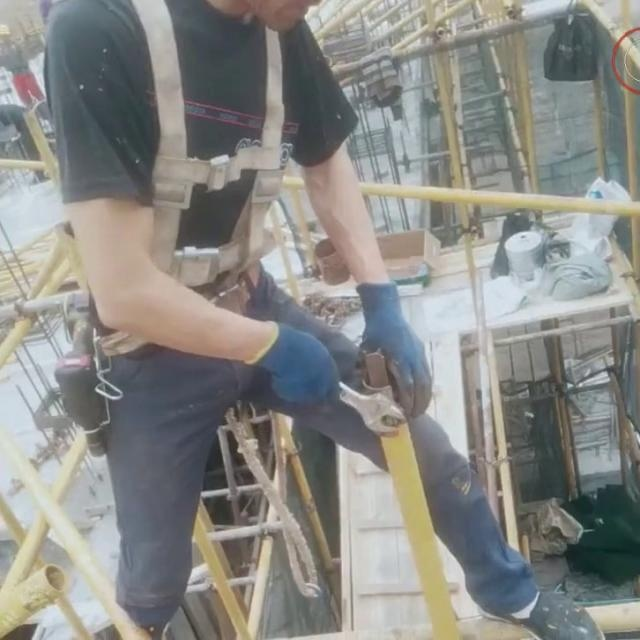Arnes_seguridad: (106, 0, 307, 297)
